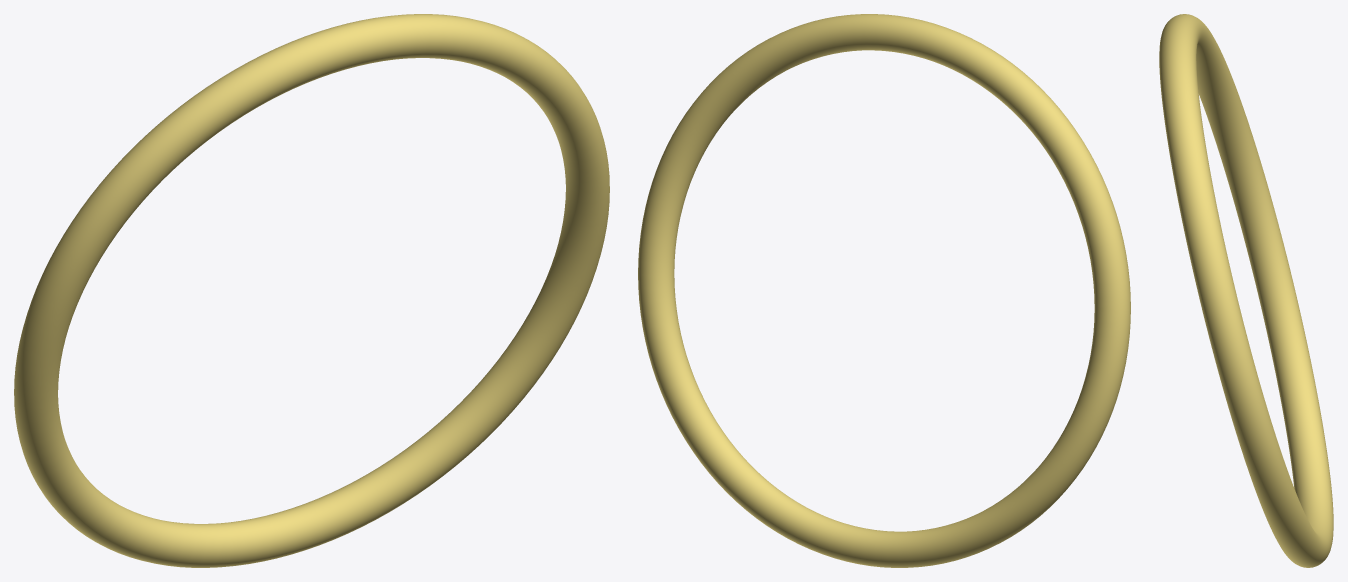
Rendered from bracelet.glb.
3 views of the same model, side by side, from view 1: azimuth 30°, elevation 25°; view 2: azimuth 150°, elevation 25°; view 3: azimuth 270°, elevation 25° (orthographic). The views are drawn at different scales.
Parts seen in each view (by area): view 1: BraceletNode; view 2: BraceletNode; view 3: BraceletNode.
Part boxes in pixels (bbox=[...]): BraceletNode: bbox=[14, 14, 609, 567]; BraceletNode: bbox=[638, 14, 1130, 567]; BraceletNode: bbox=[1159, 14, 1333, 567].
Size of the model in its own units: 2.14 by 2.07 by 0.6561.
